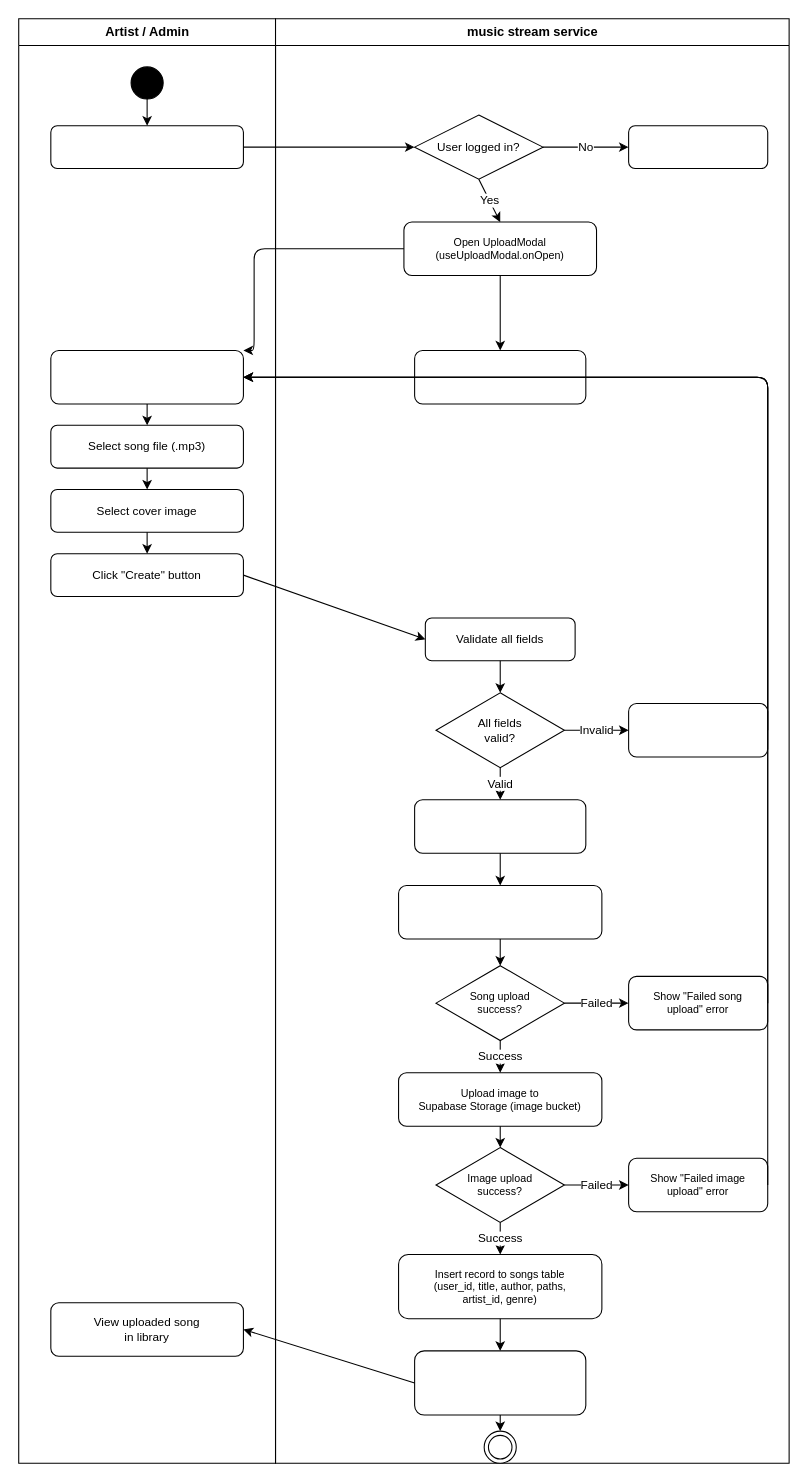
Some shapes in this 808 by 1482 pixel diagram are drawn without their labels. The centre of each missing label's shape, as x and y in pixels:
Click "+" Upload button: point (146, 147)
Close modal router.refresh() Show success toast: point (500, 1382)
Display upload form (react-hook-form): point (500, 376)
Fill song information (title, artist, genre): point (146, 376)
findOrCreateArtist() (check artists table): point (500, 826)
Show "Missing fields" error: point (698, 729)
Show Auth Modal: point (698, 147)
Upload song to Supabase Storage (Songs bucket): point (500, 911)
